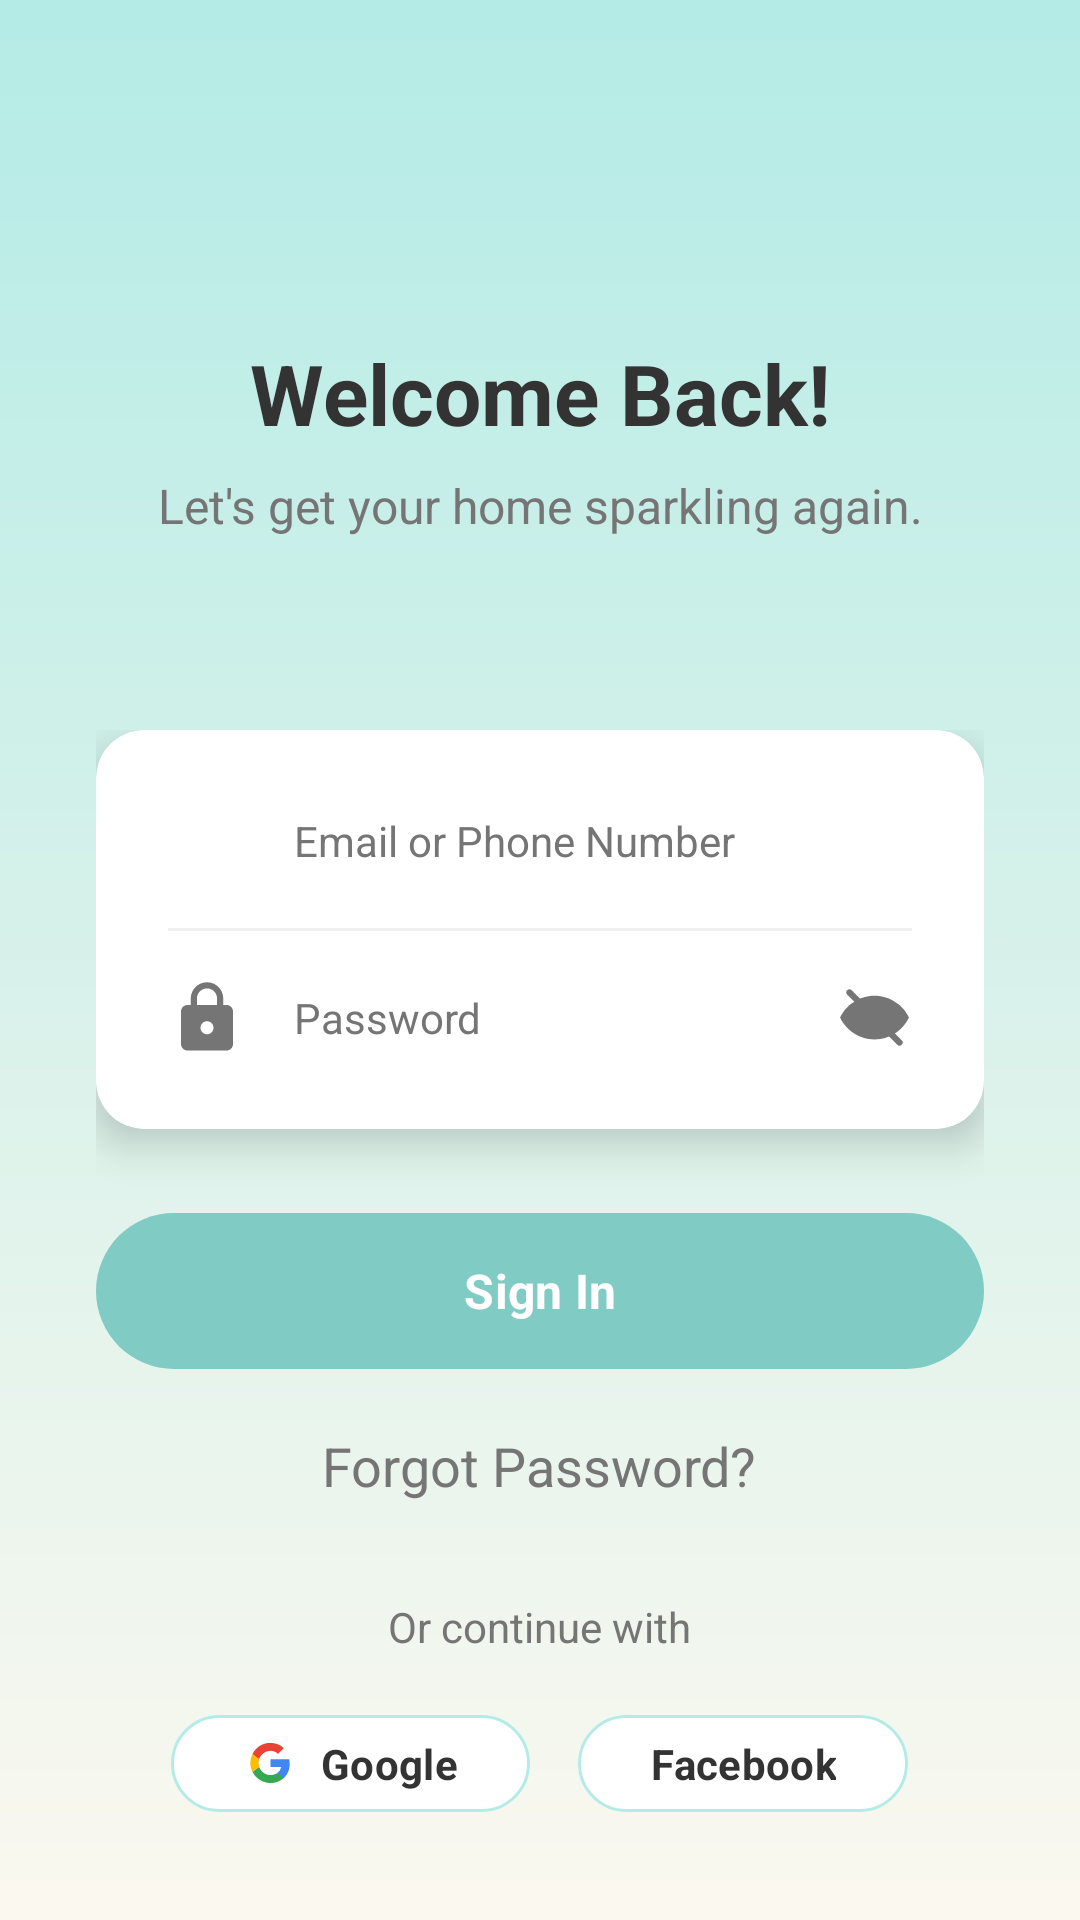

Icon bounding boxes for this 1080w x 1920h phone screenshot, format region(x1, y1, x2, y2):
eye: region(840, 989, 909, 1046)
lock: region(181, 982, 233, 1051)
